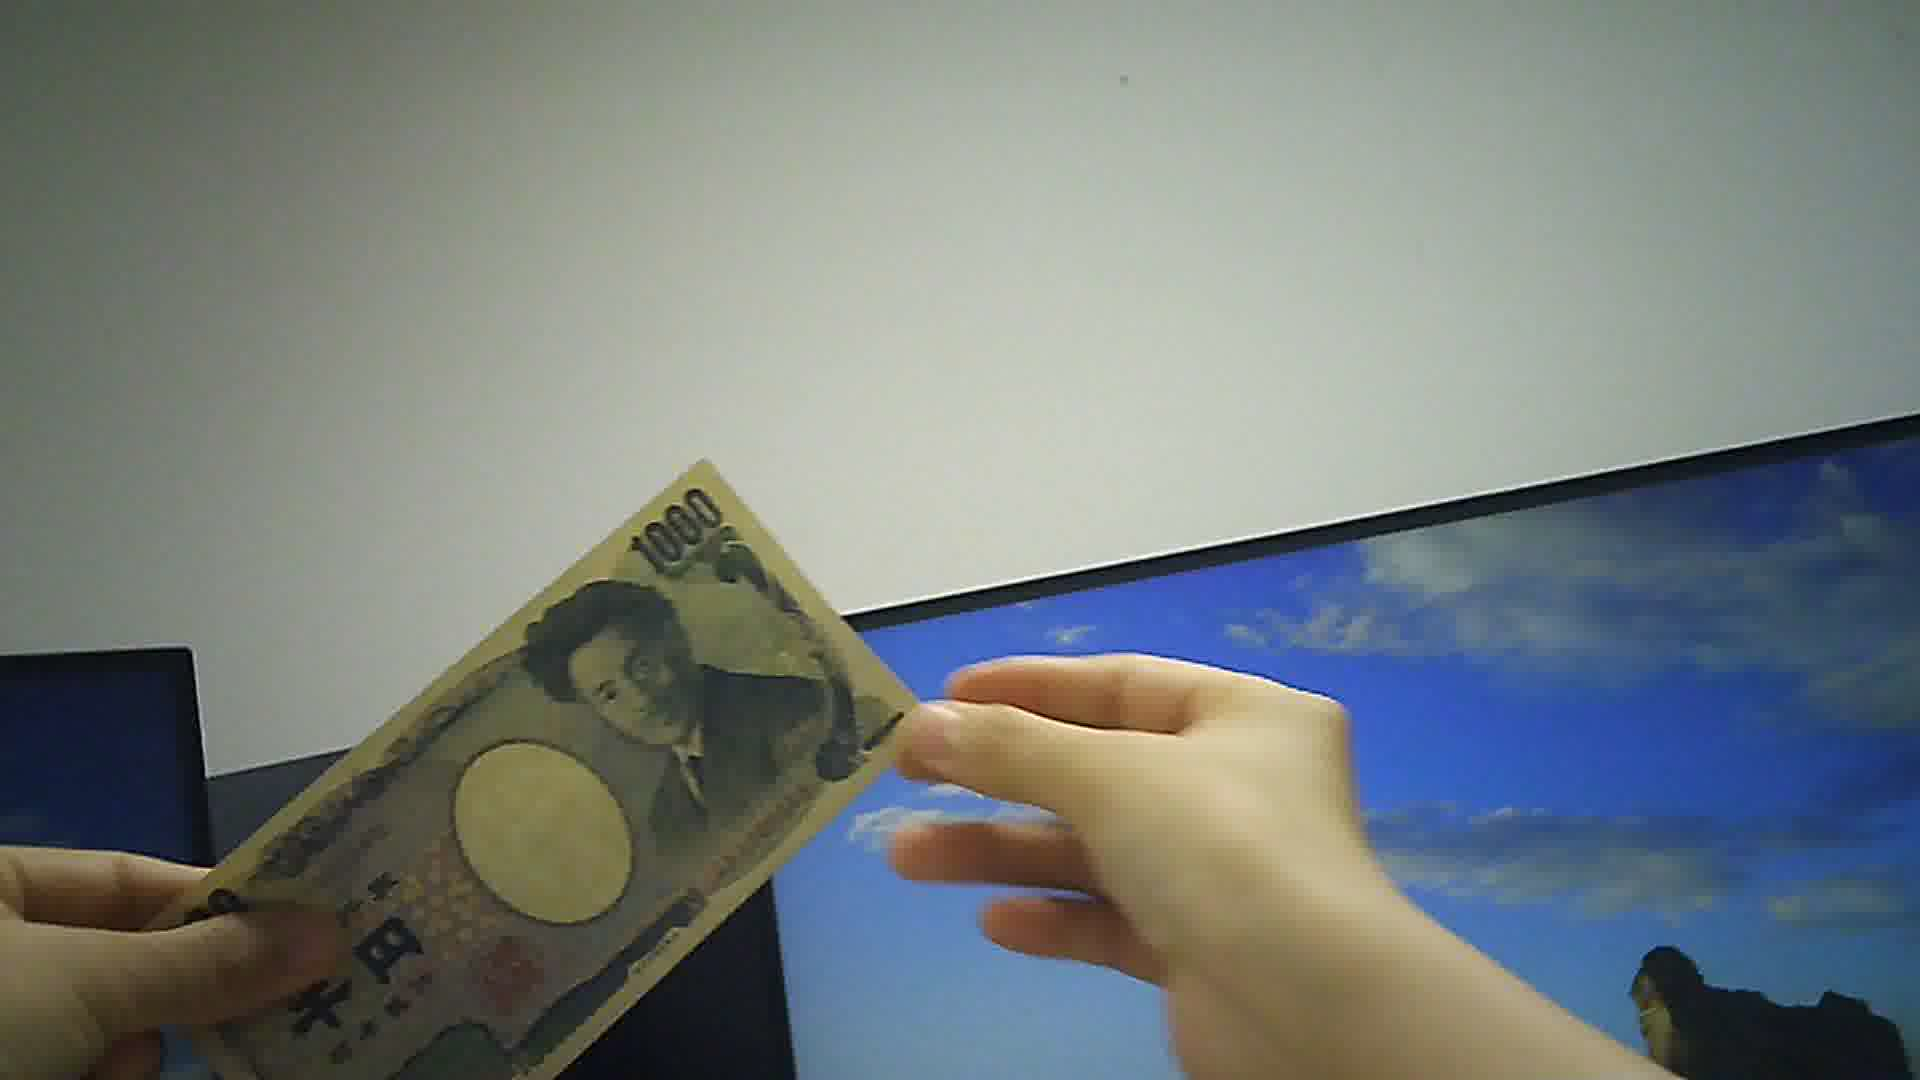1,000 Yen: (103, 400, 928, 1079)
